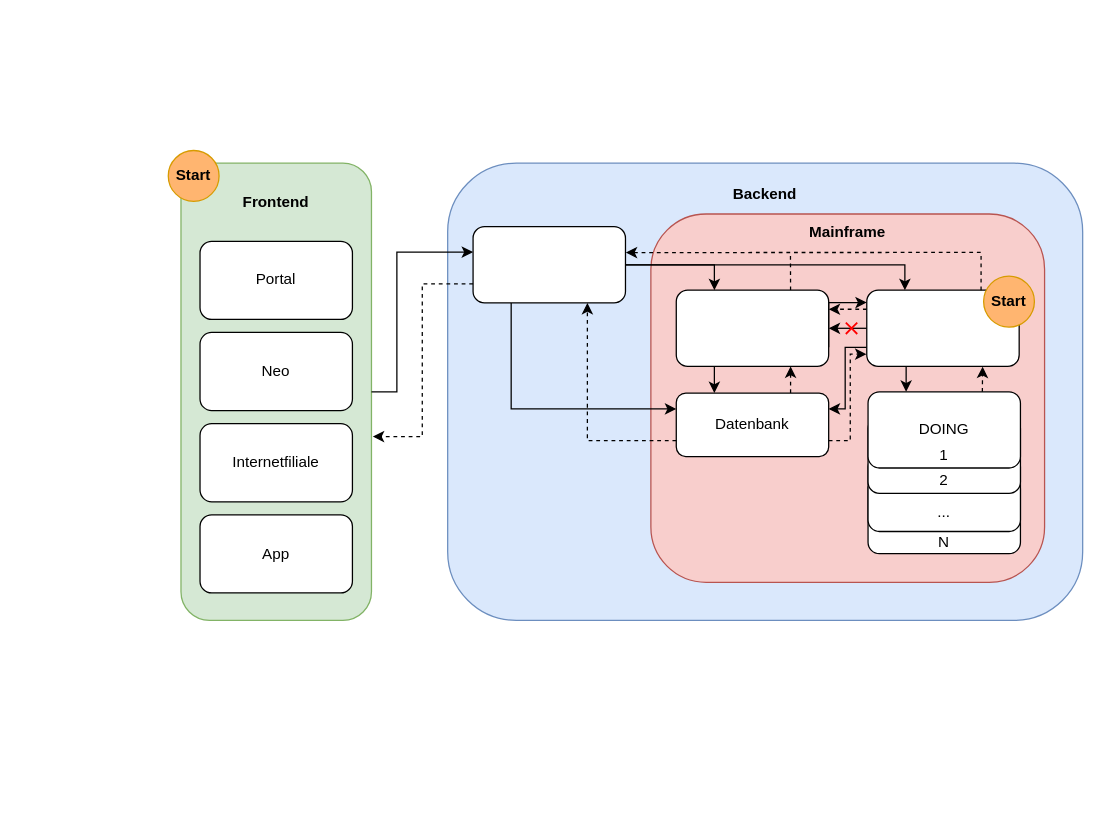
Some shapes in this 1119 by 834 pixel diagram are drawn without their labels. The shapes that lost their labels are listed below. From the top down, each one's box as (x1, y1, x2, y2) in pixels, then its label:
(472, 225, 625, 303): OSPE Service
(675, 289, 829, 366): Java Job
(866, 289, 1019, 366): COBOL Job
